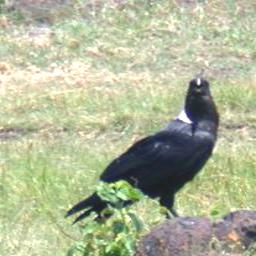Crow: (62, 74, 223, 230)
